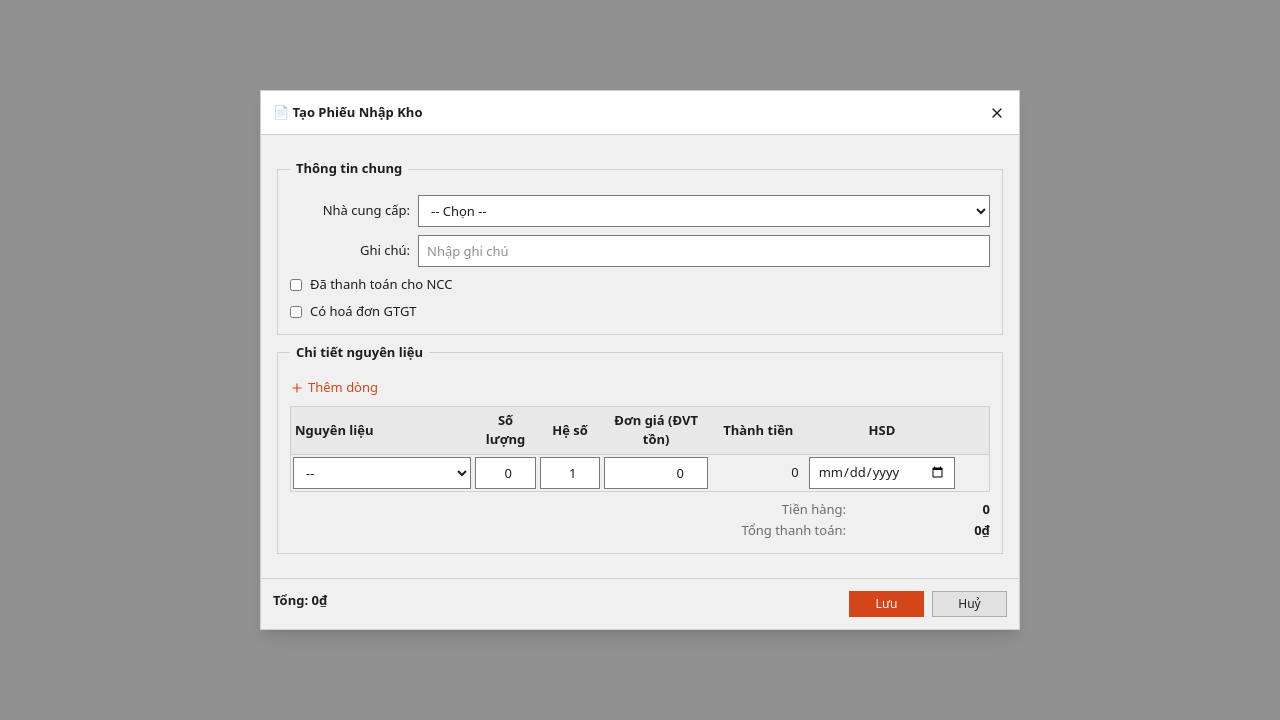
Test: ImportOrderForm › validates supplier_id required
This screenshot has width=1280, height=720.
What coordinates should you click on to do the following:
click the button "Lưu"
I would click on:
 (886, 604)
Its box is [849,591,924,617].
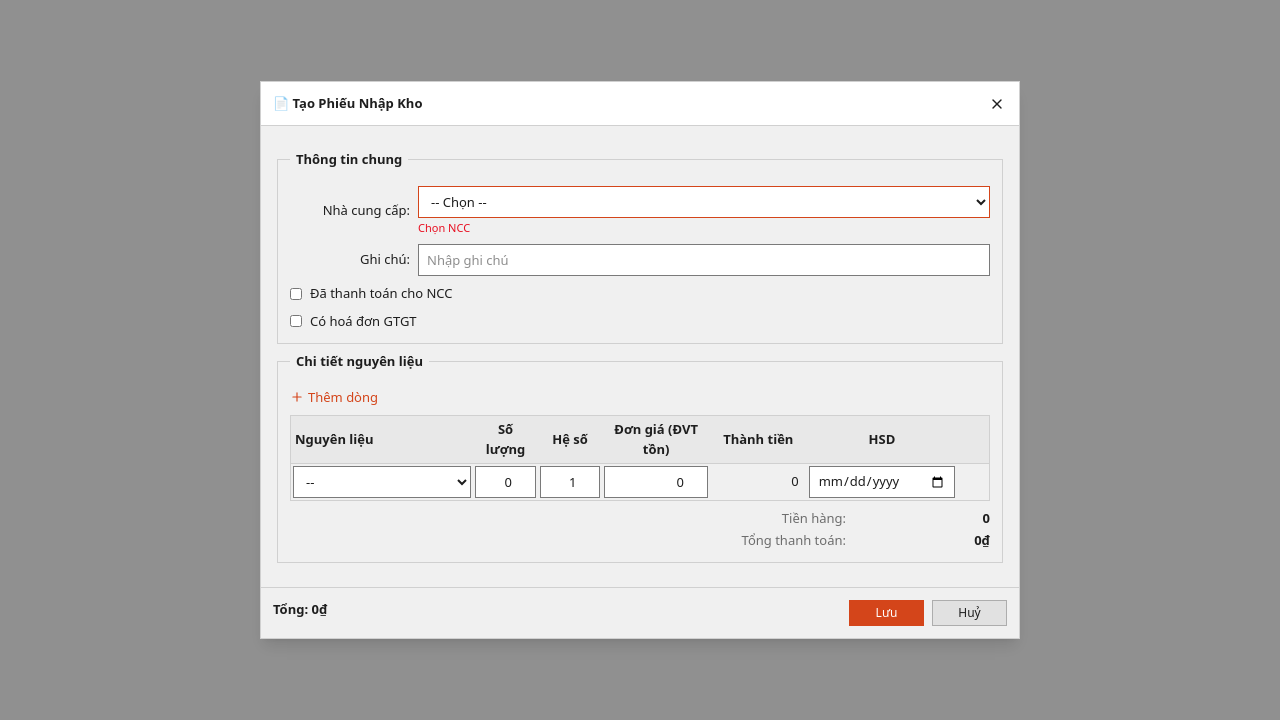
expect the text "Chọn NCC" is shown: met, box [418,220,470,234]
